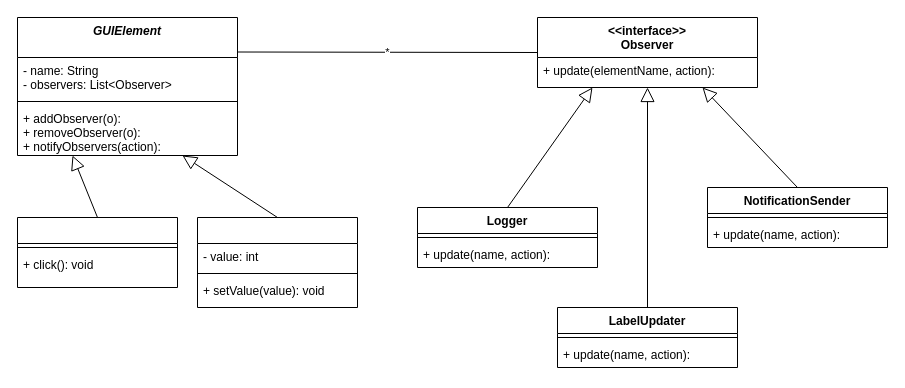
The diagram is 905 pixels wide and 388 high, and some of its shapes have lost their labels. The shapes that lost their labels are listed below. From the top down, each one's box as (x1, y1, x2, y2) in pixels, then its label:
(16, 216, 178, 288): Button
(196, 216, 358, 308): Slider
